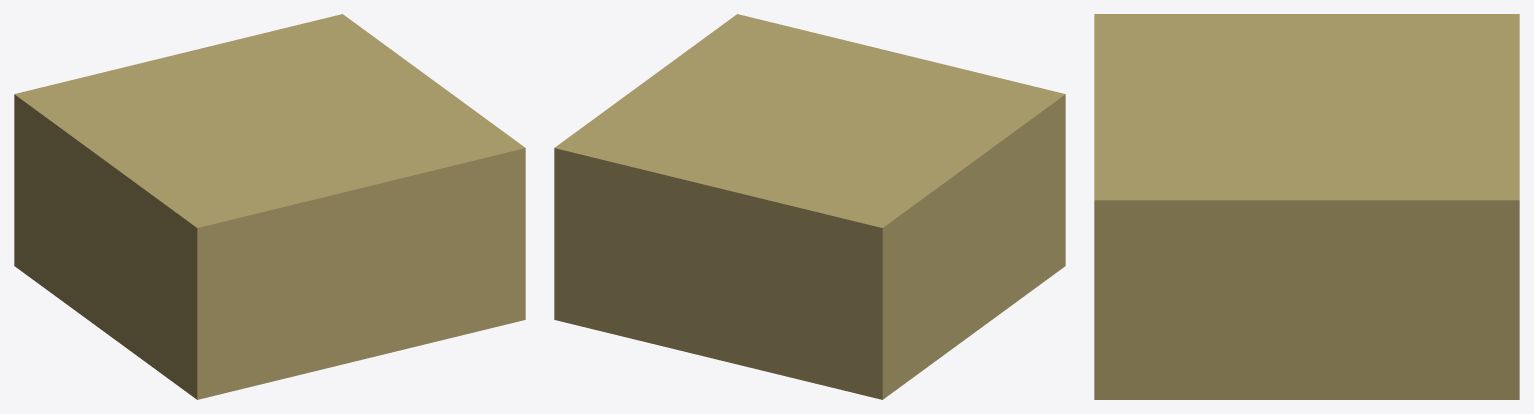
The model's file is Helmet_Guard_2.glb.
3 renders of one model, left to right at view 1: azimuth 30°, elevation 25°; view 2: azimuth 150°, elevation 25°; view 3: azimuth 270°, elevation 25°, orthographic. The views are drawn at different scales.
Bounding box in the file's own units: 0.58 × 0.29 × 0.56.
